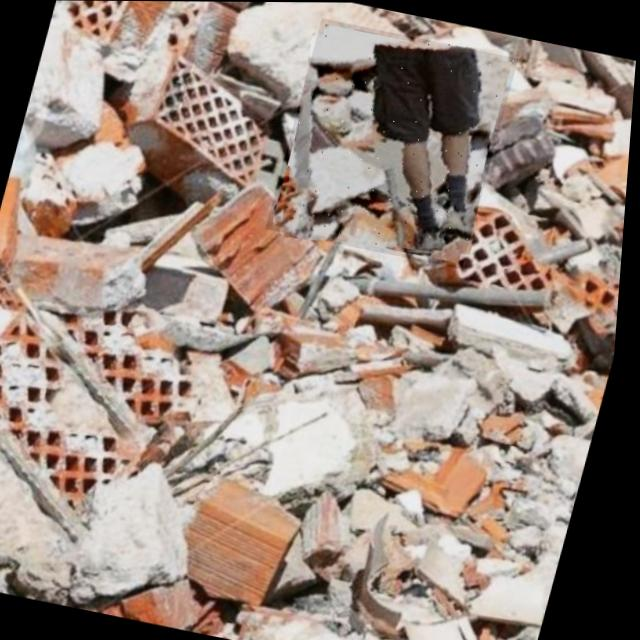Person in Rubble: (267, 18, 521, 269)
